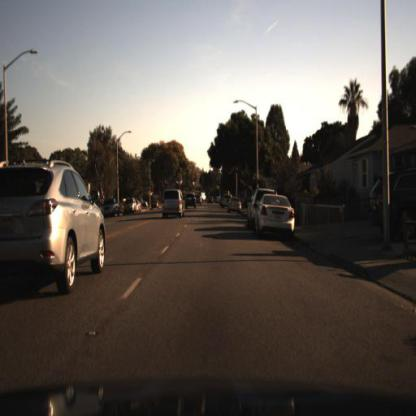car: (2, 162, 107, 290), (368, 168, 416, 240), (252, 192, 296, 239), (248, 187, 269, 229), (162, 188, 185, 220), (226, 195, 243, 220), (183, 194, 198, 213), (123, 199, 138, 216), (149, 197, 161, 215), (207, 196, 216, 205)
